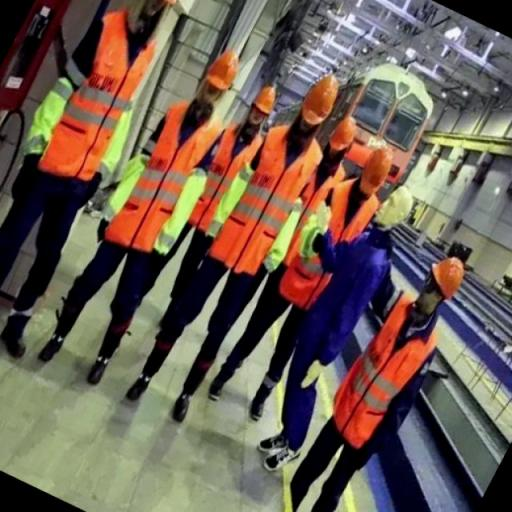helmet: (297, 70, 341, 128), (427, 246, 465, 302), (199, 43, 236, 100), (360, 146, 392, 196), (330, 115, 360, 155), (251, 80, 278, 119)
vest: (322, 285, 429, 454), (121, 90, 210, 252), (60, 14, 136, 196), (220, 134, 312, 272), (284, 182, 374, 302), (206, 120, 252, 212)
